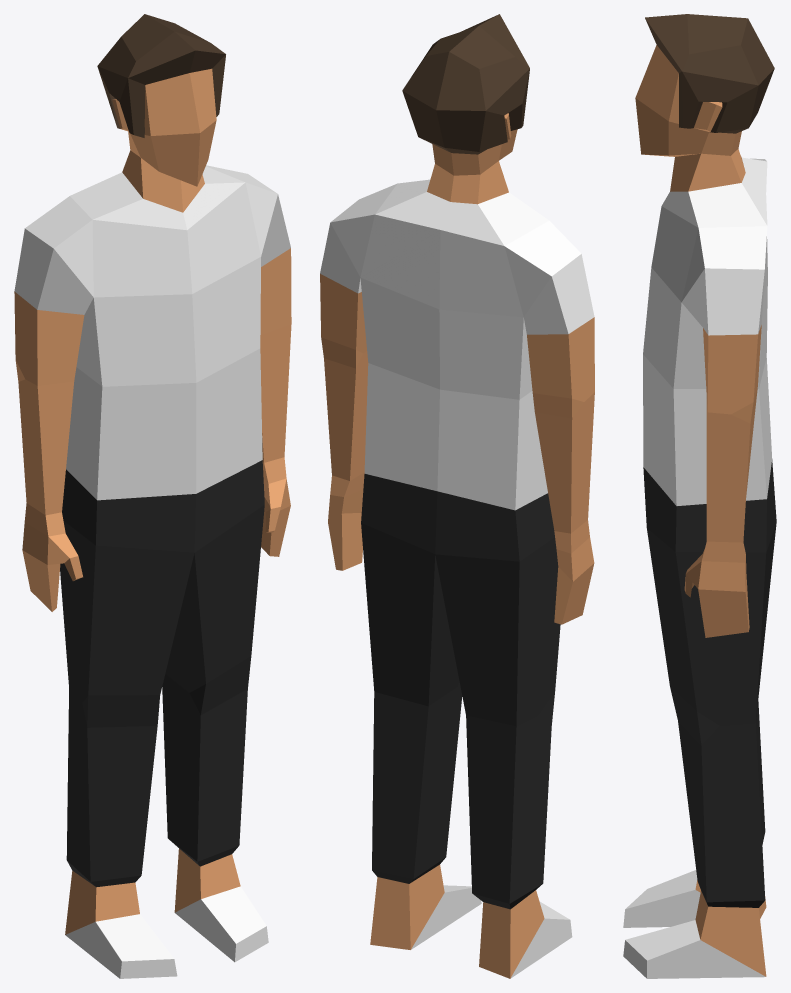
File: man-shirt.glb
3 views of the same model, side by side, from view 1: azimuth 30°, elevation 25°; view 2: azimuth 150°, elevation 25°; view 3: azimuth 270°, elevation 25° (orthographic). The views are drawn at different scales.
Parts seen in each view (by area): view 1: man-shirt; view 2: man-shirt; view 3: man-shirt.
Boxes of the visible parts, x1,y1,x2,y2 form: man-shirt: [14, 14, 291, 978]; man-shirt: [320, 14, 594, 978]; man-shirt: [623, 14, 776, 978].
Size of the model in its own units: 0.5348 by 1.83 by 0.2741.
Materials: 1 (1 with a texture image).
